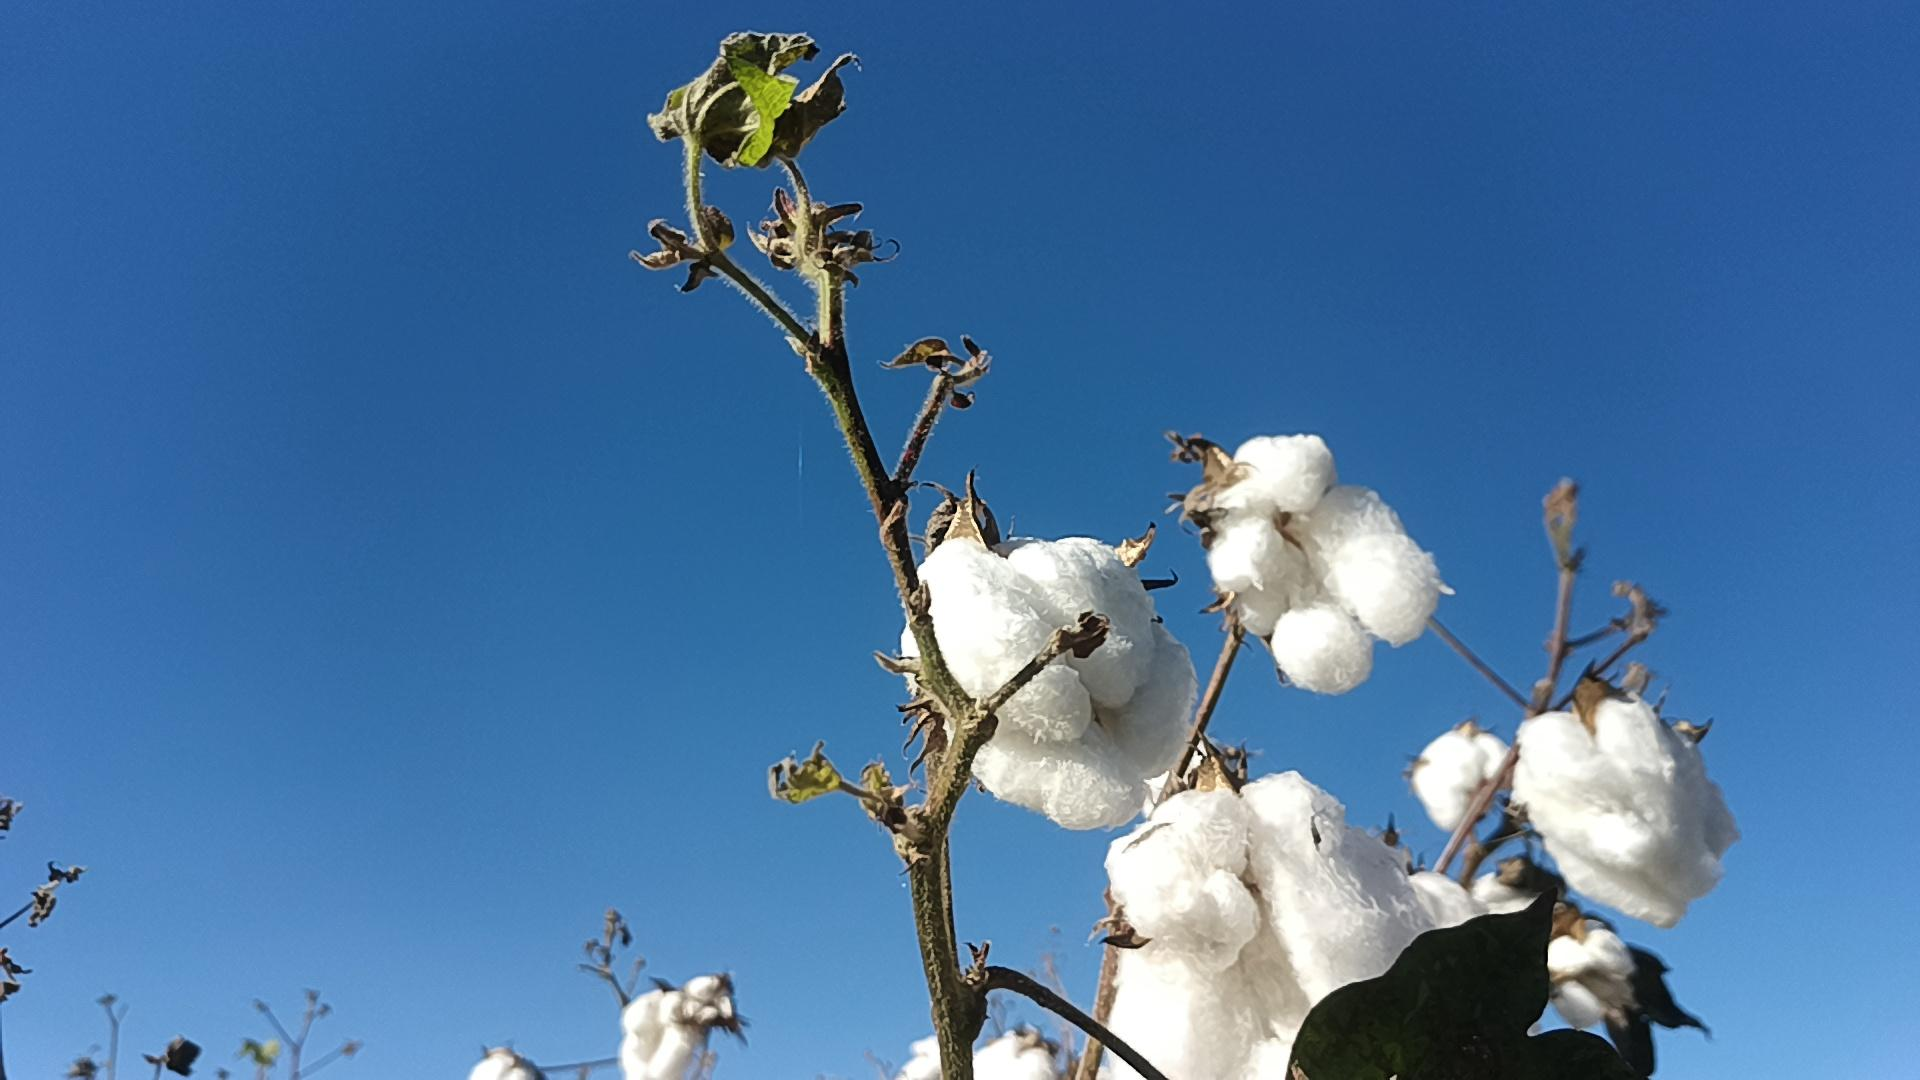cotton_ready: (1088, 783, 1444, 1080), (898, 535, 1201, 816), (1209, 423, 1440, 700), (1514, 713, 1738, 931), (1407, 721, 1510, 829), (1547, 924, 1640, 1027), (620, 989, 696, 1080), (682, 973, 732, 1027)
